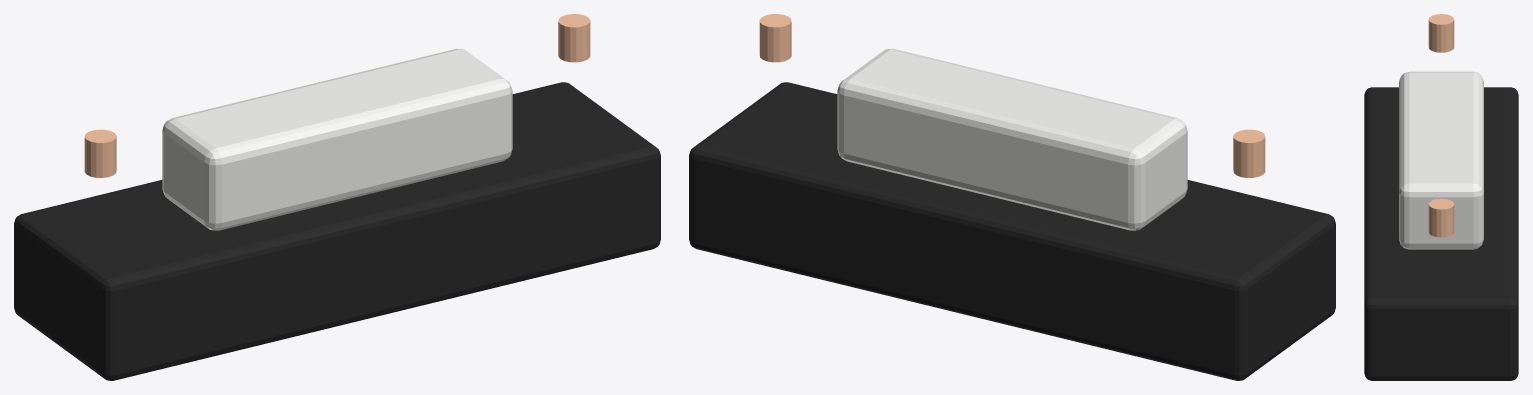
The model's file is generic-class-t-200a.glb.
3 views of the same model, side by side, from view 1: azimuth 30°, elevation 25°; view 2: azimuth 150°, elevation 25°; view 3: azimuth 270°, elevation 25° (orthographic). The views are drawn at different scales.
Parts seen in each view (by area): view 1: base, fuse, stud-out, stud-in; view 2: base, fuse, stud-out, stud-in; view 3: base, fuse, stud-in, stud-out.
Boxes of the visible parts, x1=… form: base: x1=14, y1=82, x2=660, y2=380; fuse: x1=162, y1=48, x2=512, y2=230; stud-out: x1=558, y1=14, x2=590, y2=62; stud-in: x1=84, y1=129, x2=116, y2=177; base: x1=689, y1=82, x2=1335, y2=380; fuse: x1=837, y1=48, x2=1187, y2=230; stud-out: x1=759, y1=14, x2=791, y2=62; stud-in: x1=1233, y1=129, x2=1265, y2=177; base: x1=1364, y1=87, x2=1518, y2=380; fuse: x1=1399, y1=71, x2=1483, y2=249; stud-in: x1=1428, y1=14, x2=1454, y2=52; stud-out: x1=1428, y1=198, x2=1454, y2=237.
Size of the model in its own units: 0.2 by 0.07 by 0.06.
